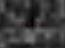four: (25, 20, 31, 28), (39, 19, 45, 27)
two: (18, 20, 24, 28), (32, 19, 38, 27)
